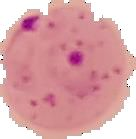parasitized: (6, 1, 122, 130), (15, 12, 70, 39)
